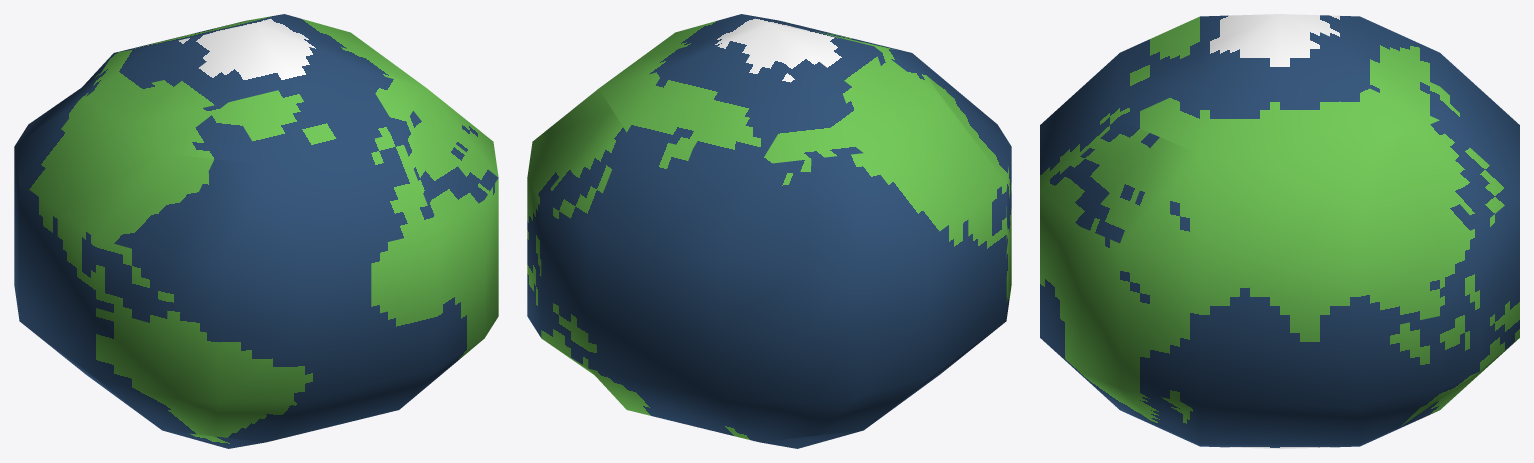
Rendered from earth.glb.
3 views of the same model, side by side, from view 1: azimuth 30°, elevation 25°; view 2: azimuth 150°, elevation 25°; view 3: azimuth 270°, elevation 25° (orthographic). The views are drawn at different scales.
Bounding box in the file's own units: 3 × 3 × 3.
Materials: 1 (1 with a texture image).
